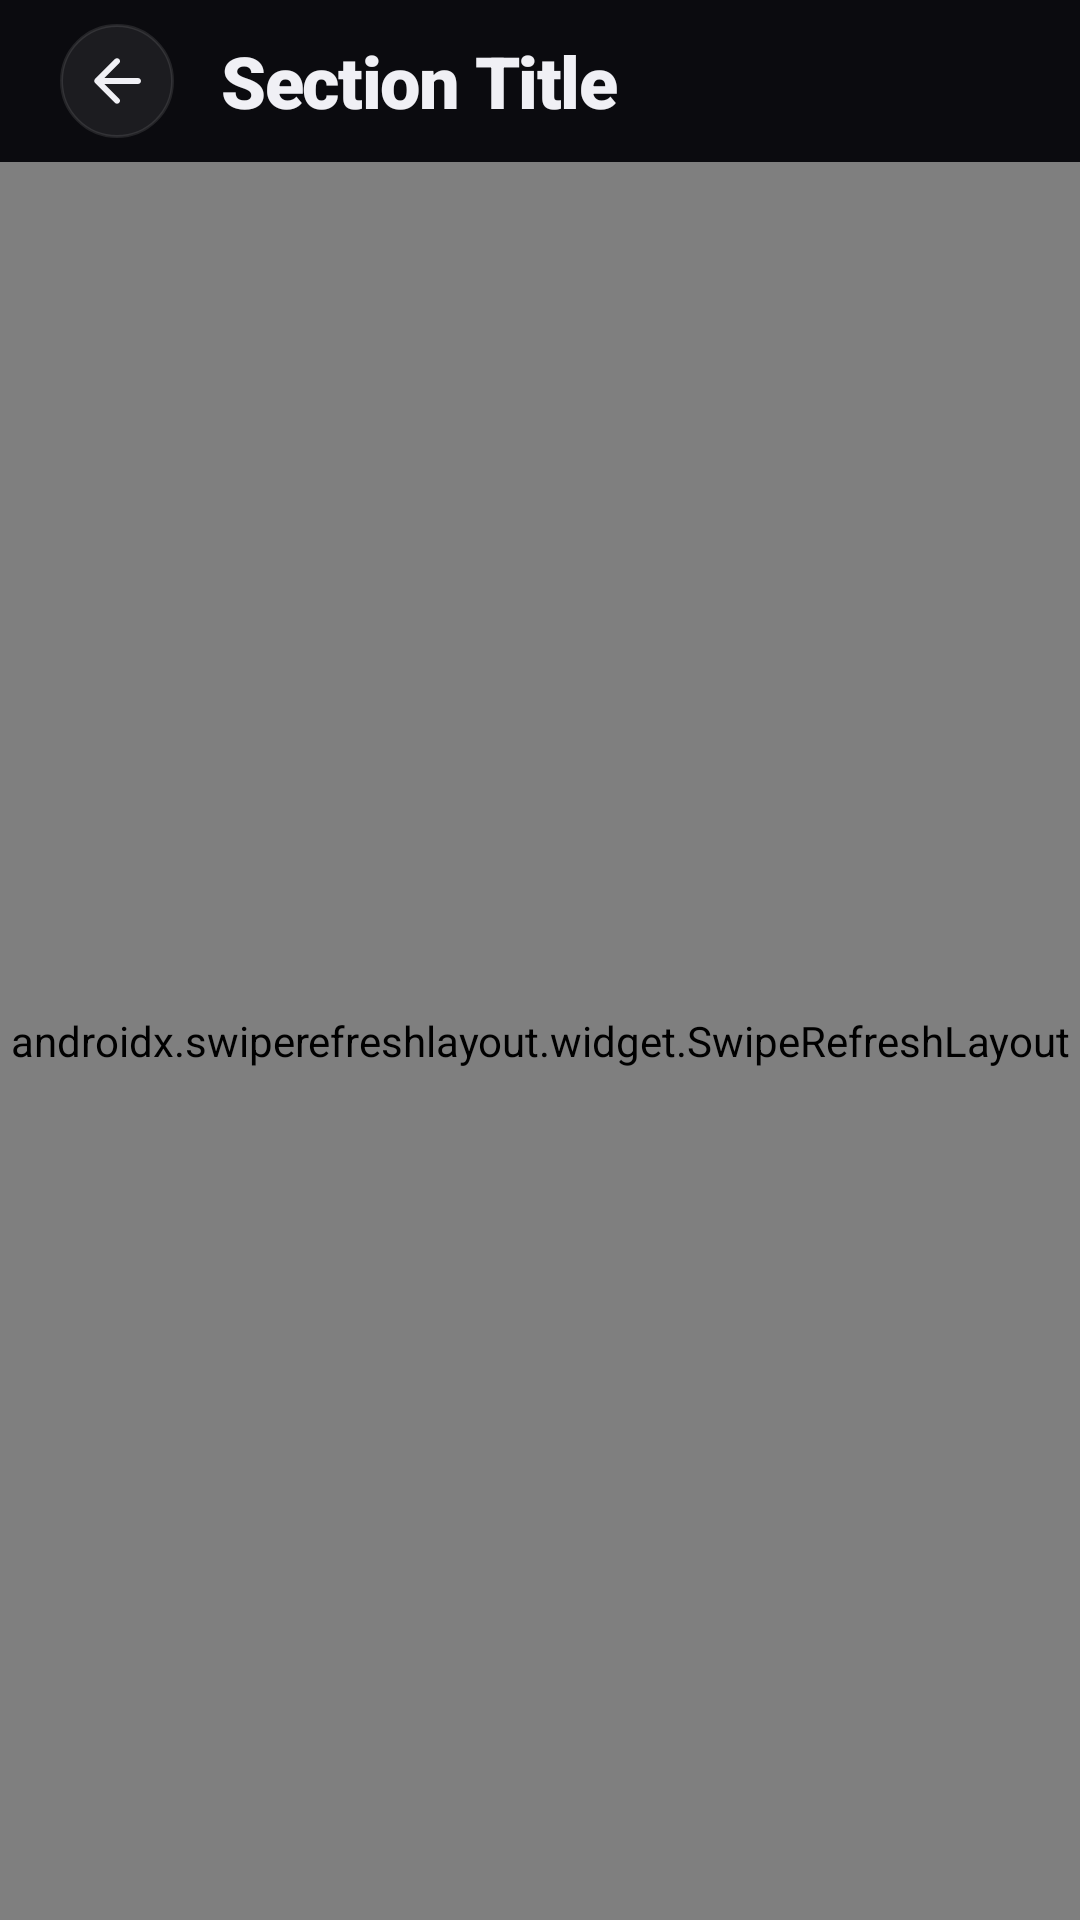

Screen size 1080 x 1920. Icon name, then its box in pixels as (x1, y1, x2, y2):
Back: (60, 24, 174, 138)
